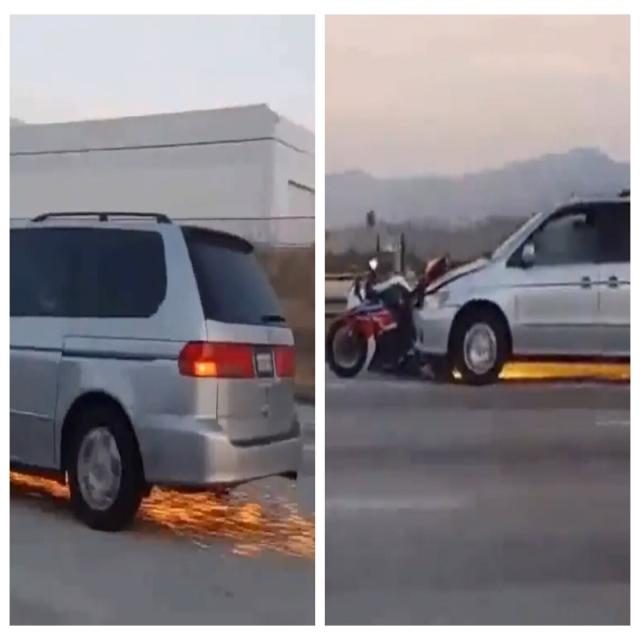accident: (326, 257, 448, 377)
car: (11, 216, 301, 530), (415, 197, 630, 384)
